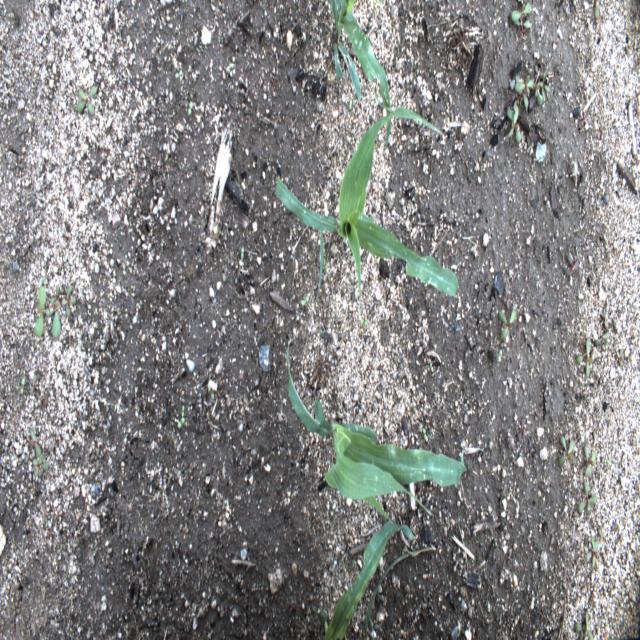crop: (275, 107, 458, 306), (286, 338, 466, 523), (312, 521, 419, 639), (330, 0, 390, 154)
weed: (34, 285, 60, 337), (511, 2, 532, 36), (576, 480, 598, 512), (504, 104, 522, 143), (514, 75, 533, 110), (575, 339, 592, 378), (76, 85, 98, 115), (534, 65, 550, 106), (557, 434, 575, 468), (497, 310, 516, 340), (574, 612, 594, 640), (61, 284, 76, 318), (586, 535, 599, 569), (32, 452, 48, 479), (584, 444, 595, 477), (30, 427, 41, 457)
